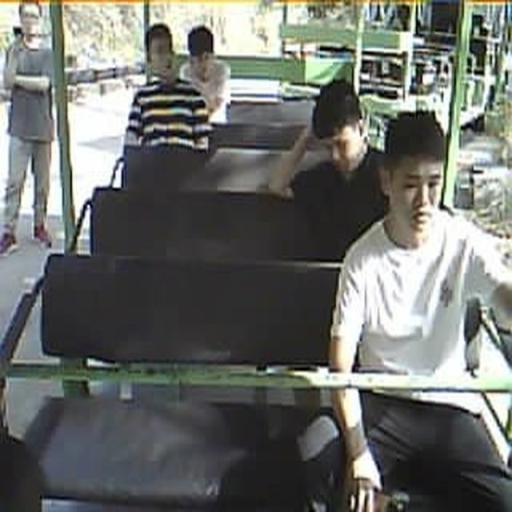persona: (326, 108, 512, 510), (266, 77, 390, 261), (122, 22, 214, 190), (178, 24, 232, 125)
